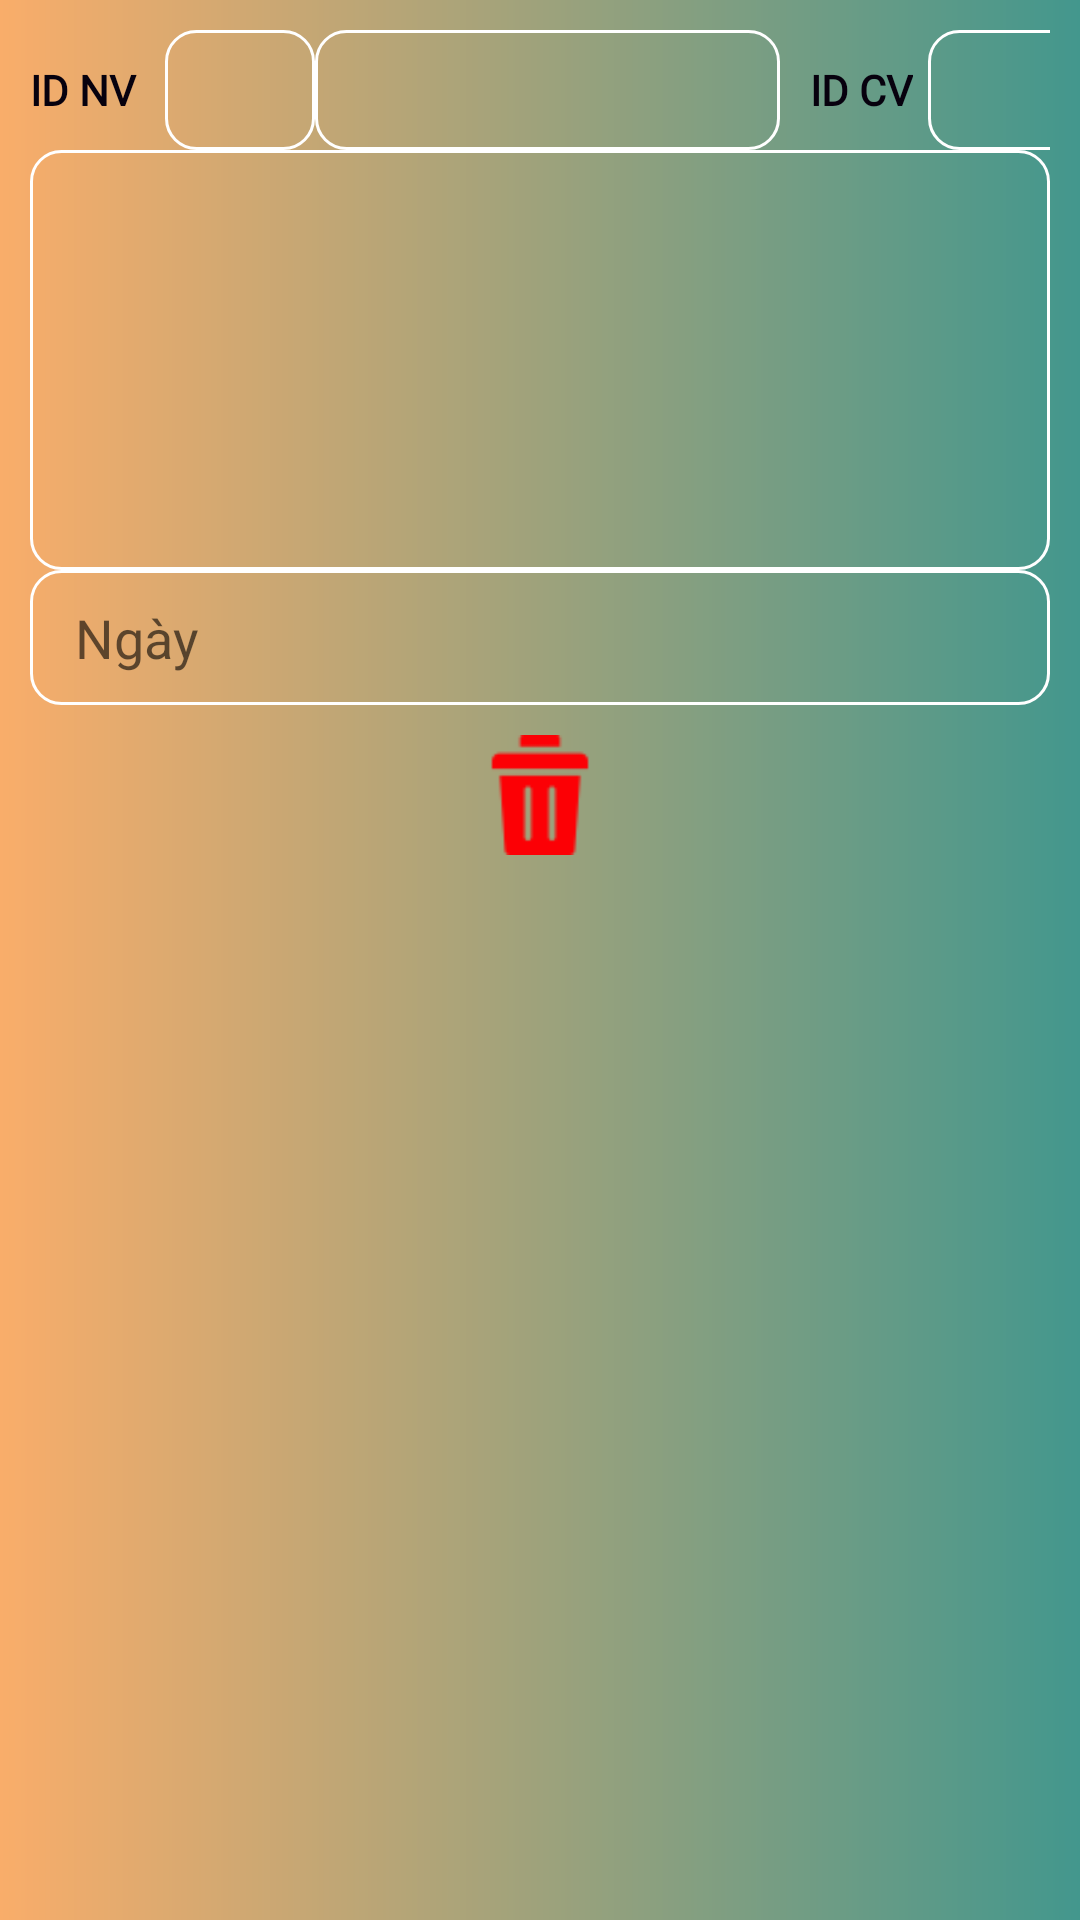

Icon bounding boxes for this 1080×1920 phone screenshot, format (x1, y1, x2, y2):
delete: (491, 735, 589, 855)
